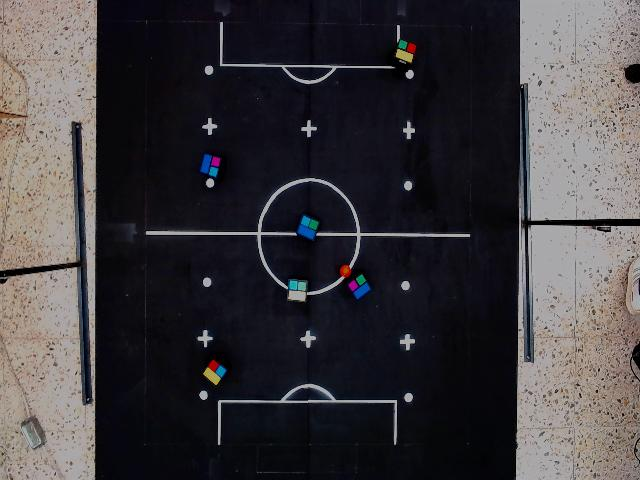robot: (201, 357, 228, 387), (347, 272, 373, 302), (296, 214, 321, 241), (198, 152, 223, 179), (394, 39, 418, 64), (287, 278, 308, 303)
